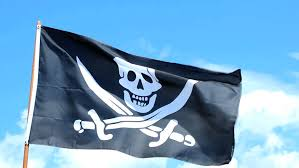Jolly Roger Flag: (19, 24, 244, 165)
